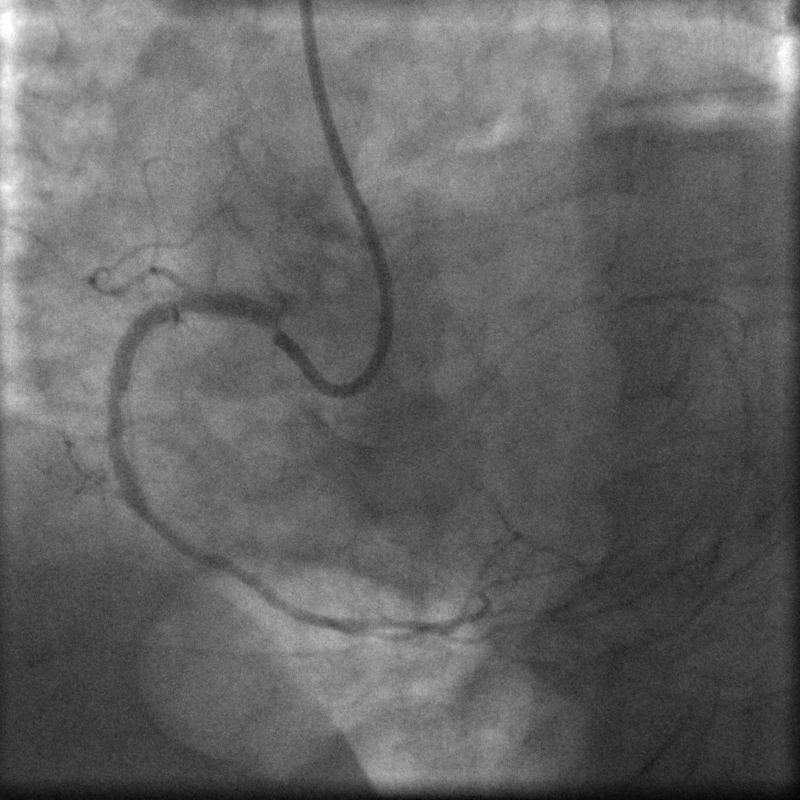Stenosis: (106, 396, 130, 483)
